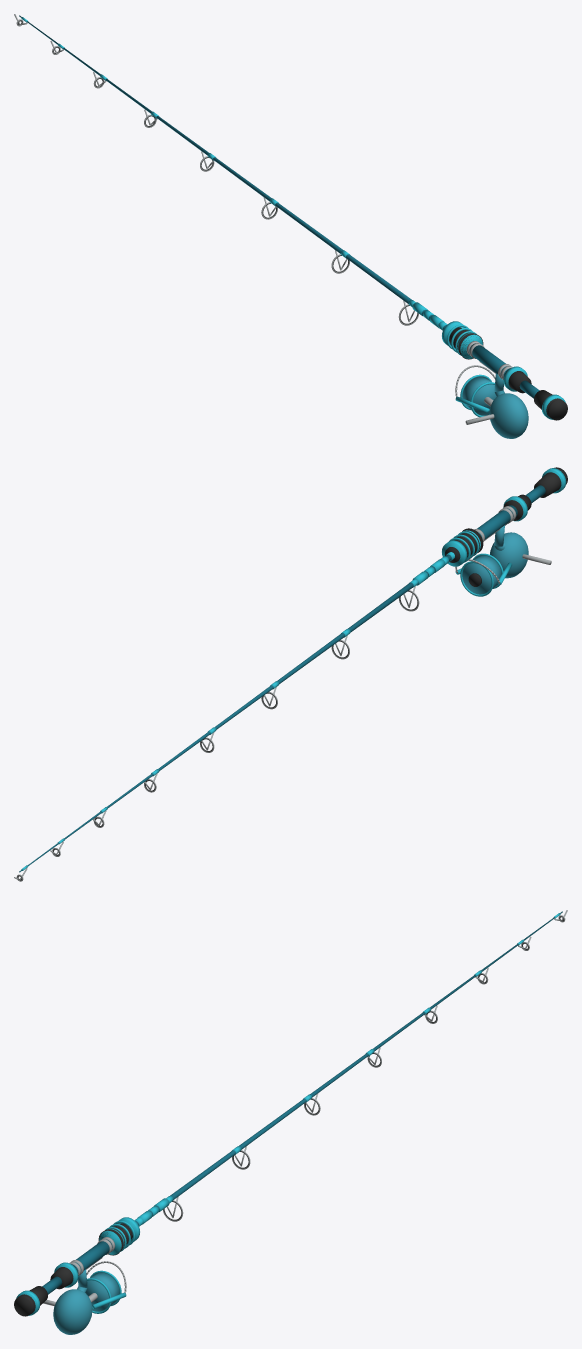
File: kingfisher.glb
The picture shows the model from 3 angles, top to bottom: view 1: azimuth 30°, elevation 25°; view 2: azimuth 150°, elevation 25°; view 3: azimuth 330°, elevation 25°; orthographic projection.
Parts seen in each view (by area): view 1: Tapered carbon blank.003; view 2: Tapered carbon blank.003; view 3: Tapered carbon blank.003.
Boxes of the visible parts, x1=… form: Tapered carbon blank.003: x1=14, y1=14, x2=567, y2=438; Tapered carbon blank.003: x1=14, y1=467, x2=567, y2=881; Tapered carbon blank.003: x1=14, y1=910, x2=567, y2=1334.
Bounding box in the file's own units: 0.1318 × 0.1456 × 1.91.
